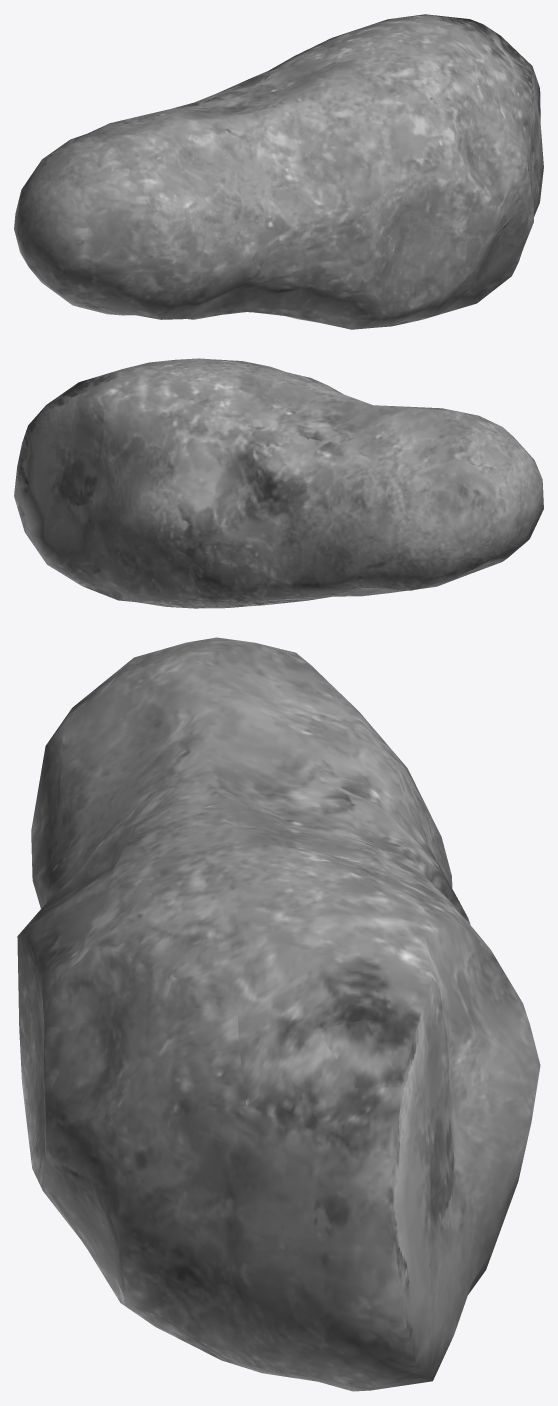
File: rock_02.glb
The picture shows the model from 3 angles, top to bottom: view 1: azimuth 30°, elevation 25°; view 2: azimuth 150°, elevation 25°; view 3: azimuth 270°, elevation 25°; orthographic projection. The views are drawn at different scales.
Visible parts, largest first — view 1: rock_02; view 2: rock_02; view 3: rock_02.
Part boxes in pixels (box(x1,y1,x2,y2)): rock_02: box(14, 14, 543, 329); rock_02: box(14, 358, 543, 608); rock_02: box(17, 637, 540, 1391).
Size of the model in its own units: 1.95 by 0.877 by 0.9307.
1 material, 1 textured.
